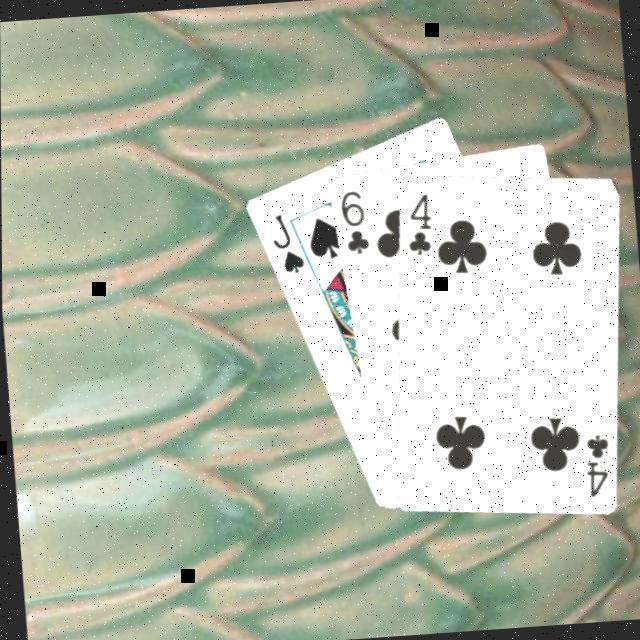4C: (398, 190, 434, 260), (576, 432, 612, 502)
6C: (332, 187, 370, 259)
JS: (264, 210, 304, 278)
